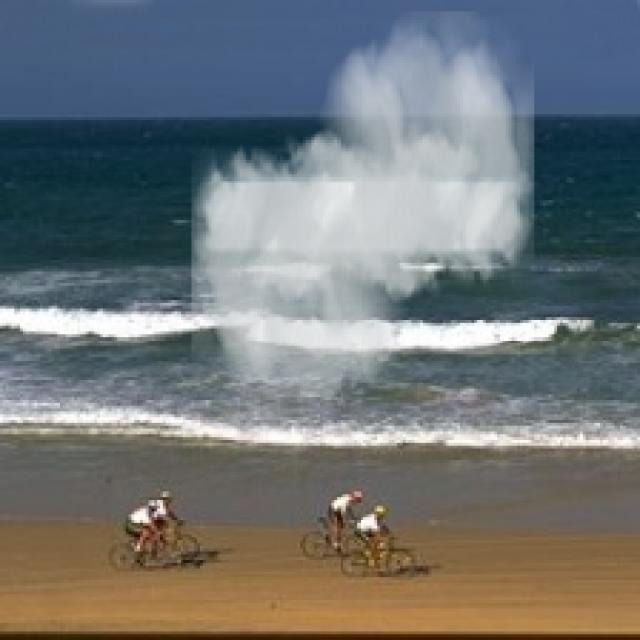Smoke: (192, 11, 534, 420)
